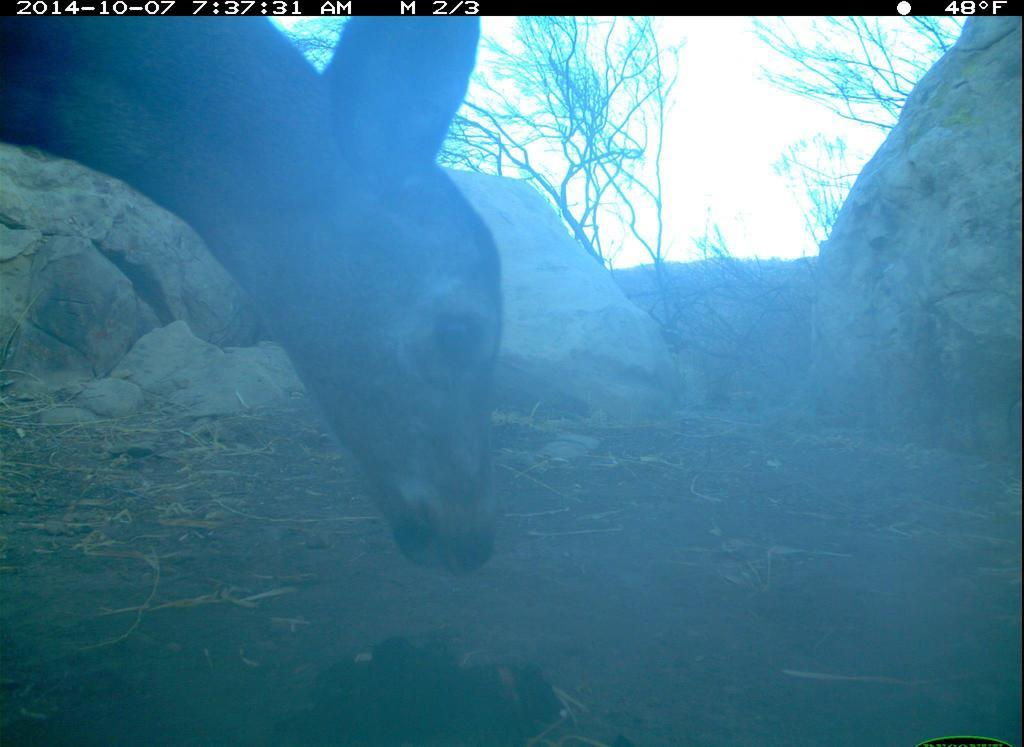deer: (2, 18, 518, 573)
